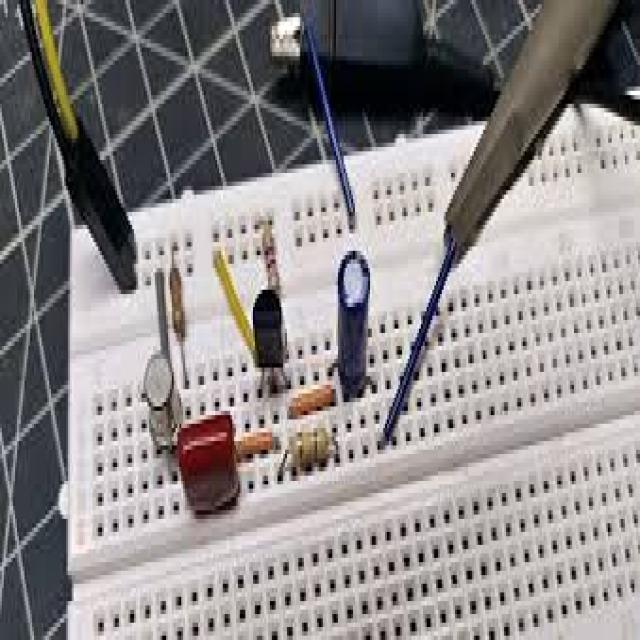capacitor: (290, 417, 328, 472), (261, 221, 282, 295), (170, 258, 186, 342)
